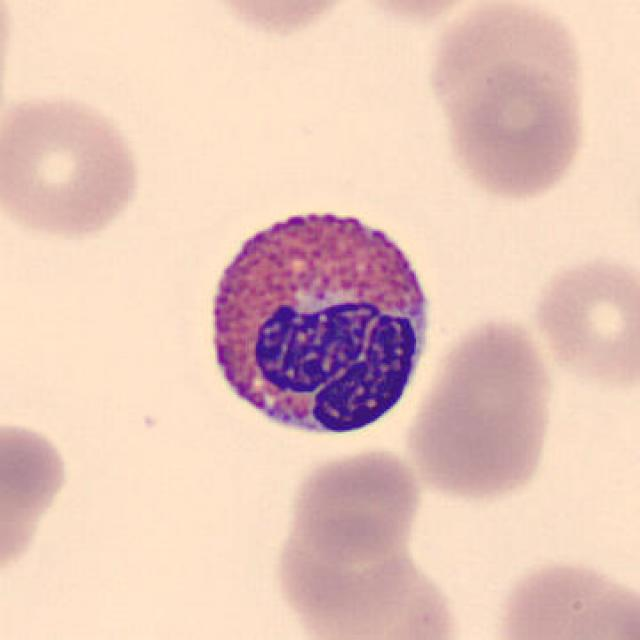Eosinophil: (190, 191, 443, 453)
RBC: (421, 0, 593, 197), (402, 312, 558, 504), (268, 518, 461, 640), (0, 86, 148, 245), (284, 440, 426, 560), (526, 247, 638, 395), (0, 412, 75, 589), (491, 552, 636, 640), (198, 0, 364, 39), (341, 0, 501, 26), (0, 0, 20, 115)
